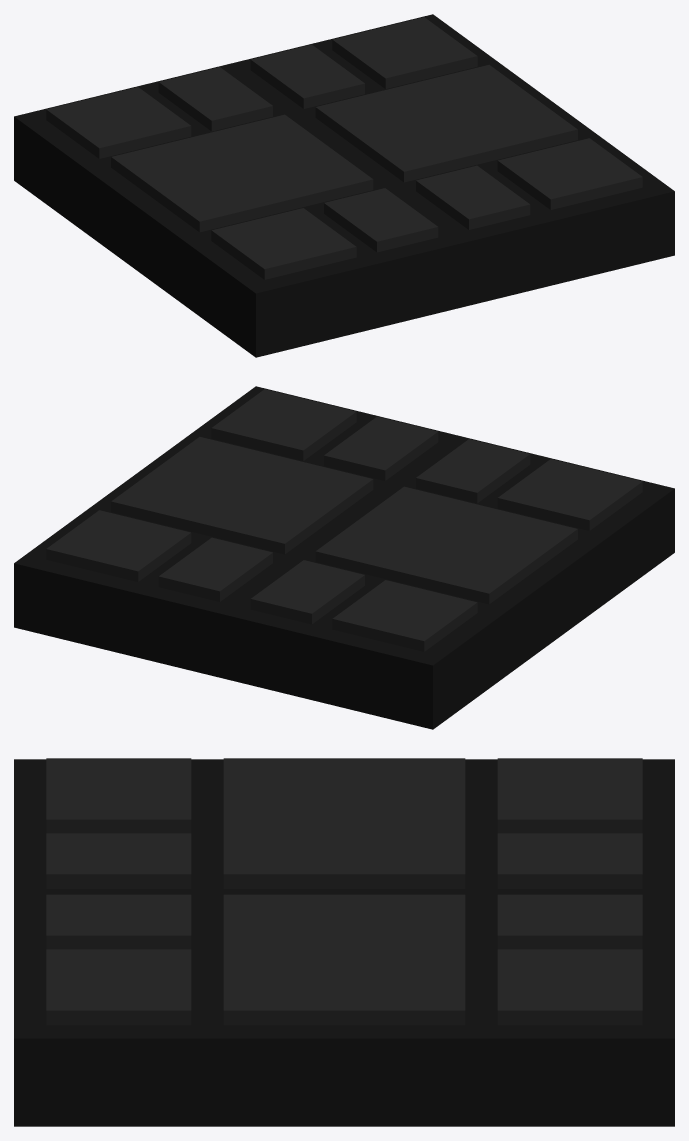
Rendered from Floor3.obj.
3 renders of one model, top to bottom at view 1: azimuth 30°, elevation 25°; view 2: azimuth 150°, elevation 25°; view 3: azimuth 270°, elevation 25°, orthographic. The views are drawn at different scales.
Size of the model in its own units: 41 by 7 by 41.
1 material, 1 textured.
